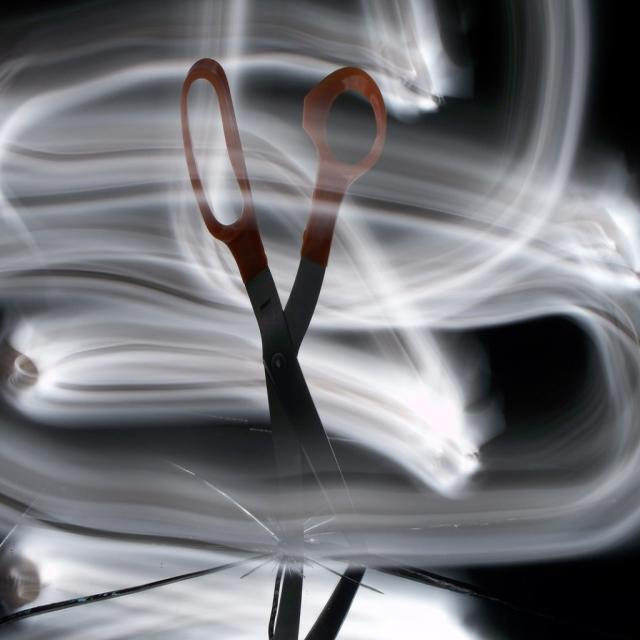scissors: (174, 43, 406, 571)
